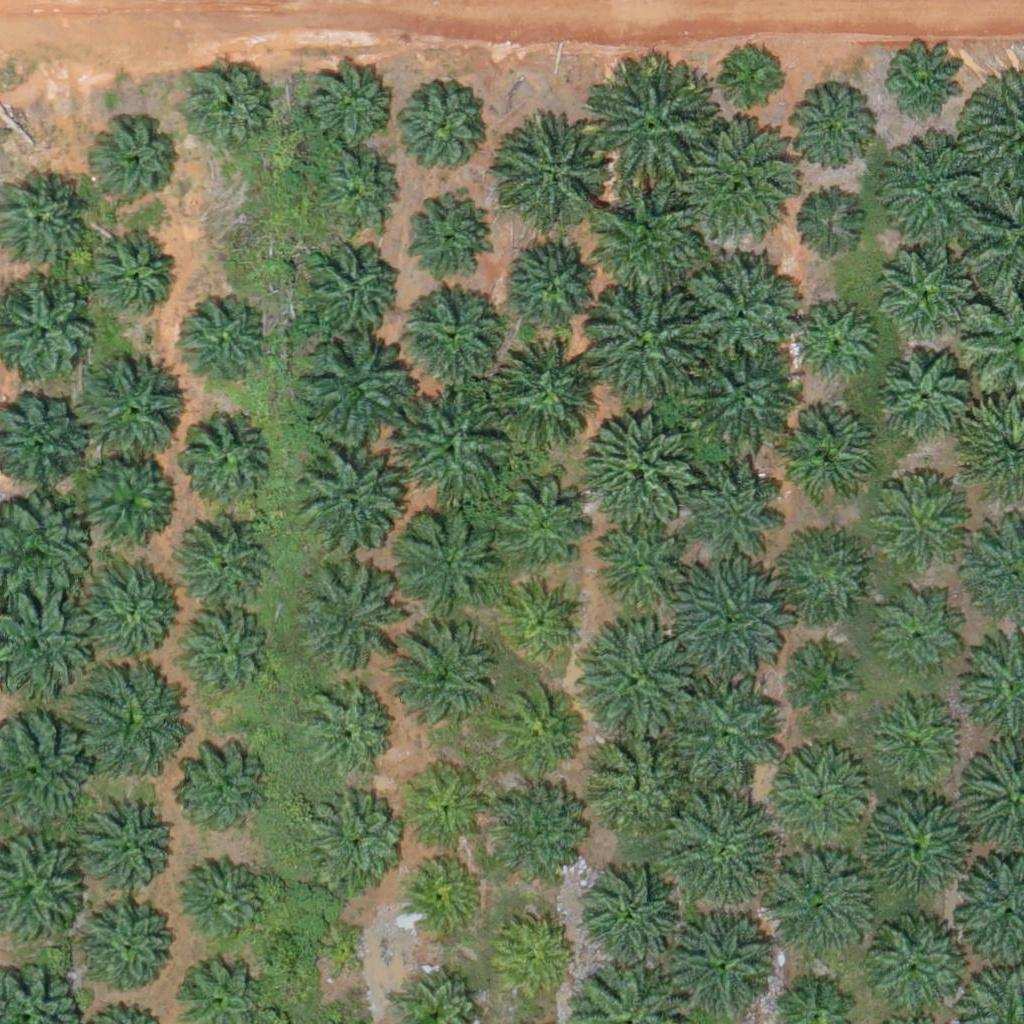Kelapa_Sawit: (590, 70, 715, 196), (861, 790, 974, 904), (690, 125, 803, 239), (486, 338, 599, 452), (879, 130, 992, 243), (766, 745, 879, 858), (668, 794, 781, 907), (672, 560, 785, 673), (593, 188, 706, 301), (584, 289, 697, 402), (581, 409, 694, 522), (479, 469, 592, 582), (78, 663, 191, 776), (589, 627, 701, 741), (391, 503, 503, 617), (388, 619, 500, 733), (297, 335, 409, 449), (763, 851, 875, 965), (671, 678, 783, 791), (690, 340, 802, 453), (685, 253, 797, 366), (396, 394, 508, 507), (72, 351, 184, 464), (663, 909, 775, 1022), (688, 447, 788, 548), (508, 231, 608, 332), (392, 75, 492, 176), (292, 567, 392, 668), (168, 295, 268, 396), (173, 516, 273, 617), (174, 605, 274, 706), (83, 557, 183, 658), (75, 449, 175, 550), (777, 409, 877, 509), (592, 730, 692, 830), (503, 129, 603, 229), (405, 285, 505, 385), (301, 787, 401, 887), (296, 454, 396, 554), (301, 238, 401, 338), (177, 410, 277, 510), (787, 87, 875, 176), (491, 790, 579, 879), (498, 577, 586, 665), (874, 699, 962, 787), (878, 245, 966, 333), (788, 299, 876, 387), (587, 523, 675, 611), (490, 689, 578, 777), (399, 191, 487, 279), (301, 685, 389, 773), (181, 60, 269, 148), (85, 799, 173, 887), (84, 231, 172, 319), (401, 850, 489, 938), (182, 851, 269, 940), (879, 41, 966, 129), (881, 475, 968, 563), (880, 349, 967, 437), (782, 530, 869, 618), (403, 765, 490, 853), (319, 146, 406, 234), (307, 63, 394, 151), (178, 744, 265, 832), (94, 120, 181, 208), (88, 907, 175, 995), (588, 872, 675, 960), (789, 192, 864, 268), (884, 601, 959, 677), (498, 919, 573, 995), (723, 44, 786, 107), (791, 649, 854, 712), (312, 932, 362, 982)
